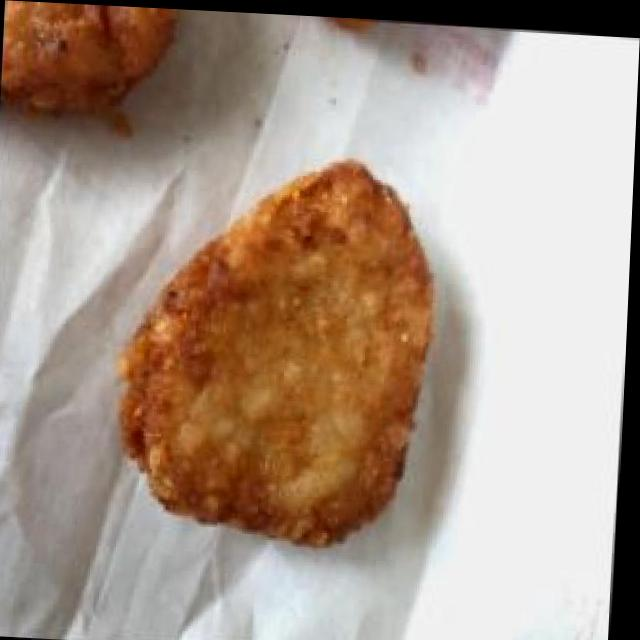triangle_hash_brown: (109, 138, 453, 557)
